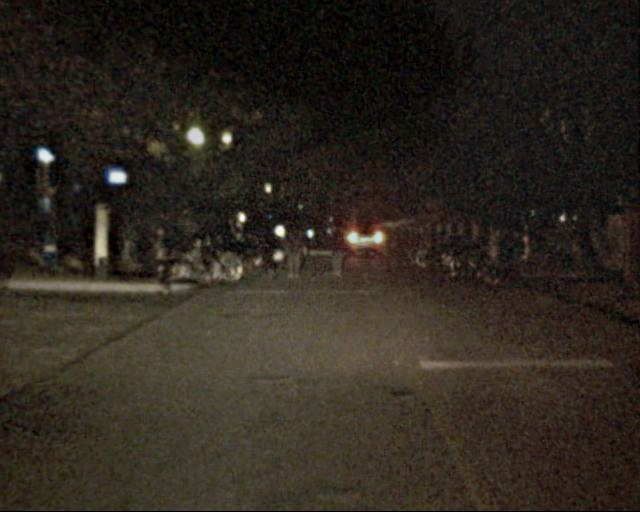person: (149, 222, 182, 299), (324, 221, 346, 285), (251, 218, 275, 276), (283, 222, 307, 277)
